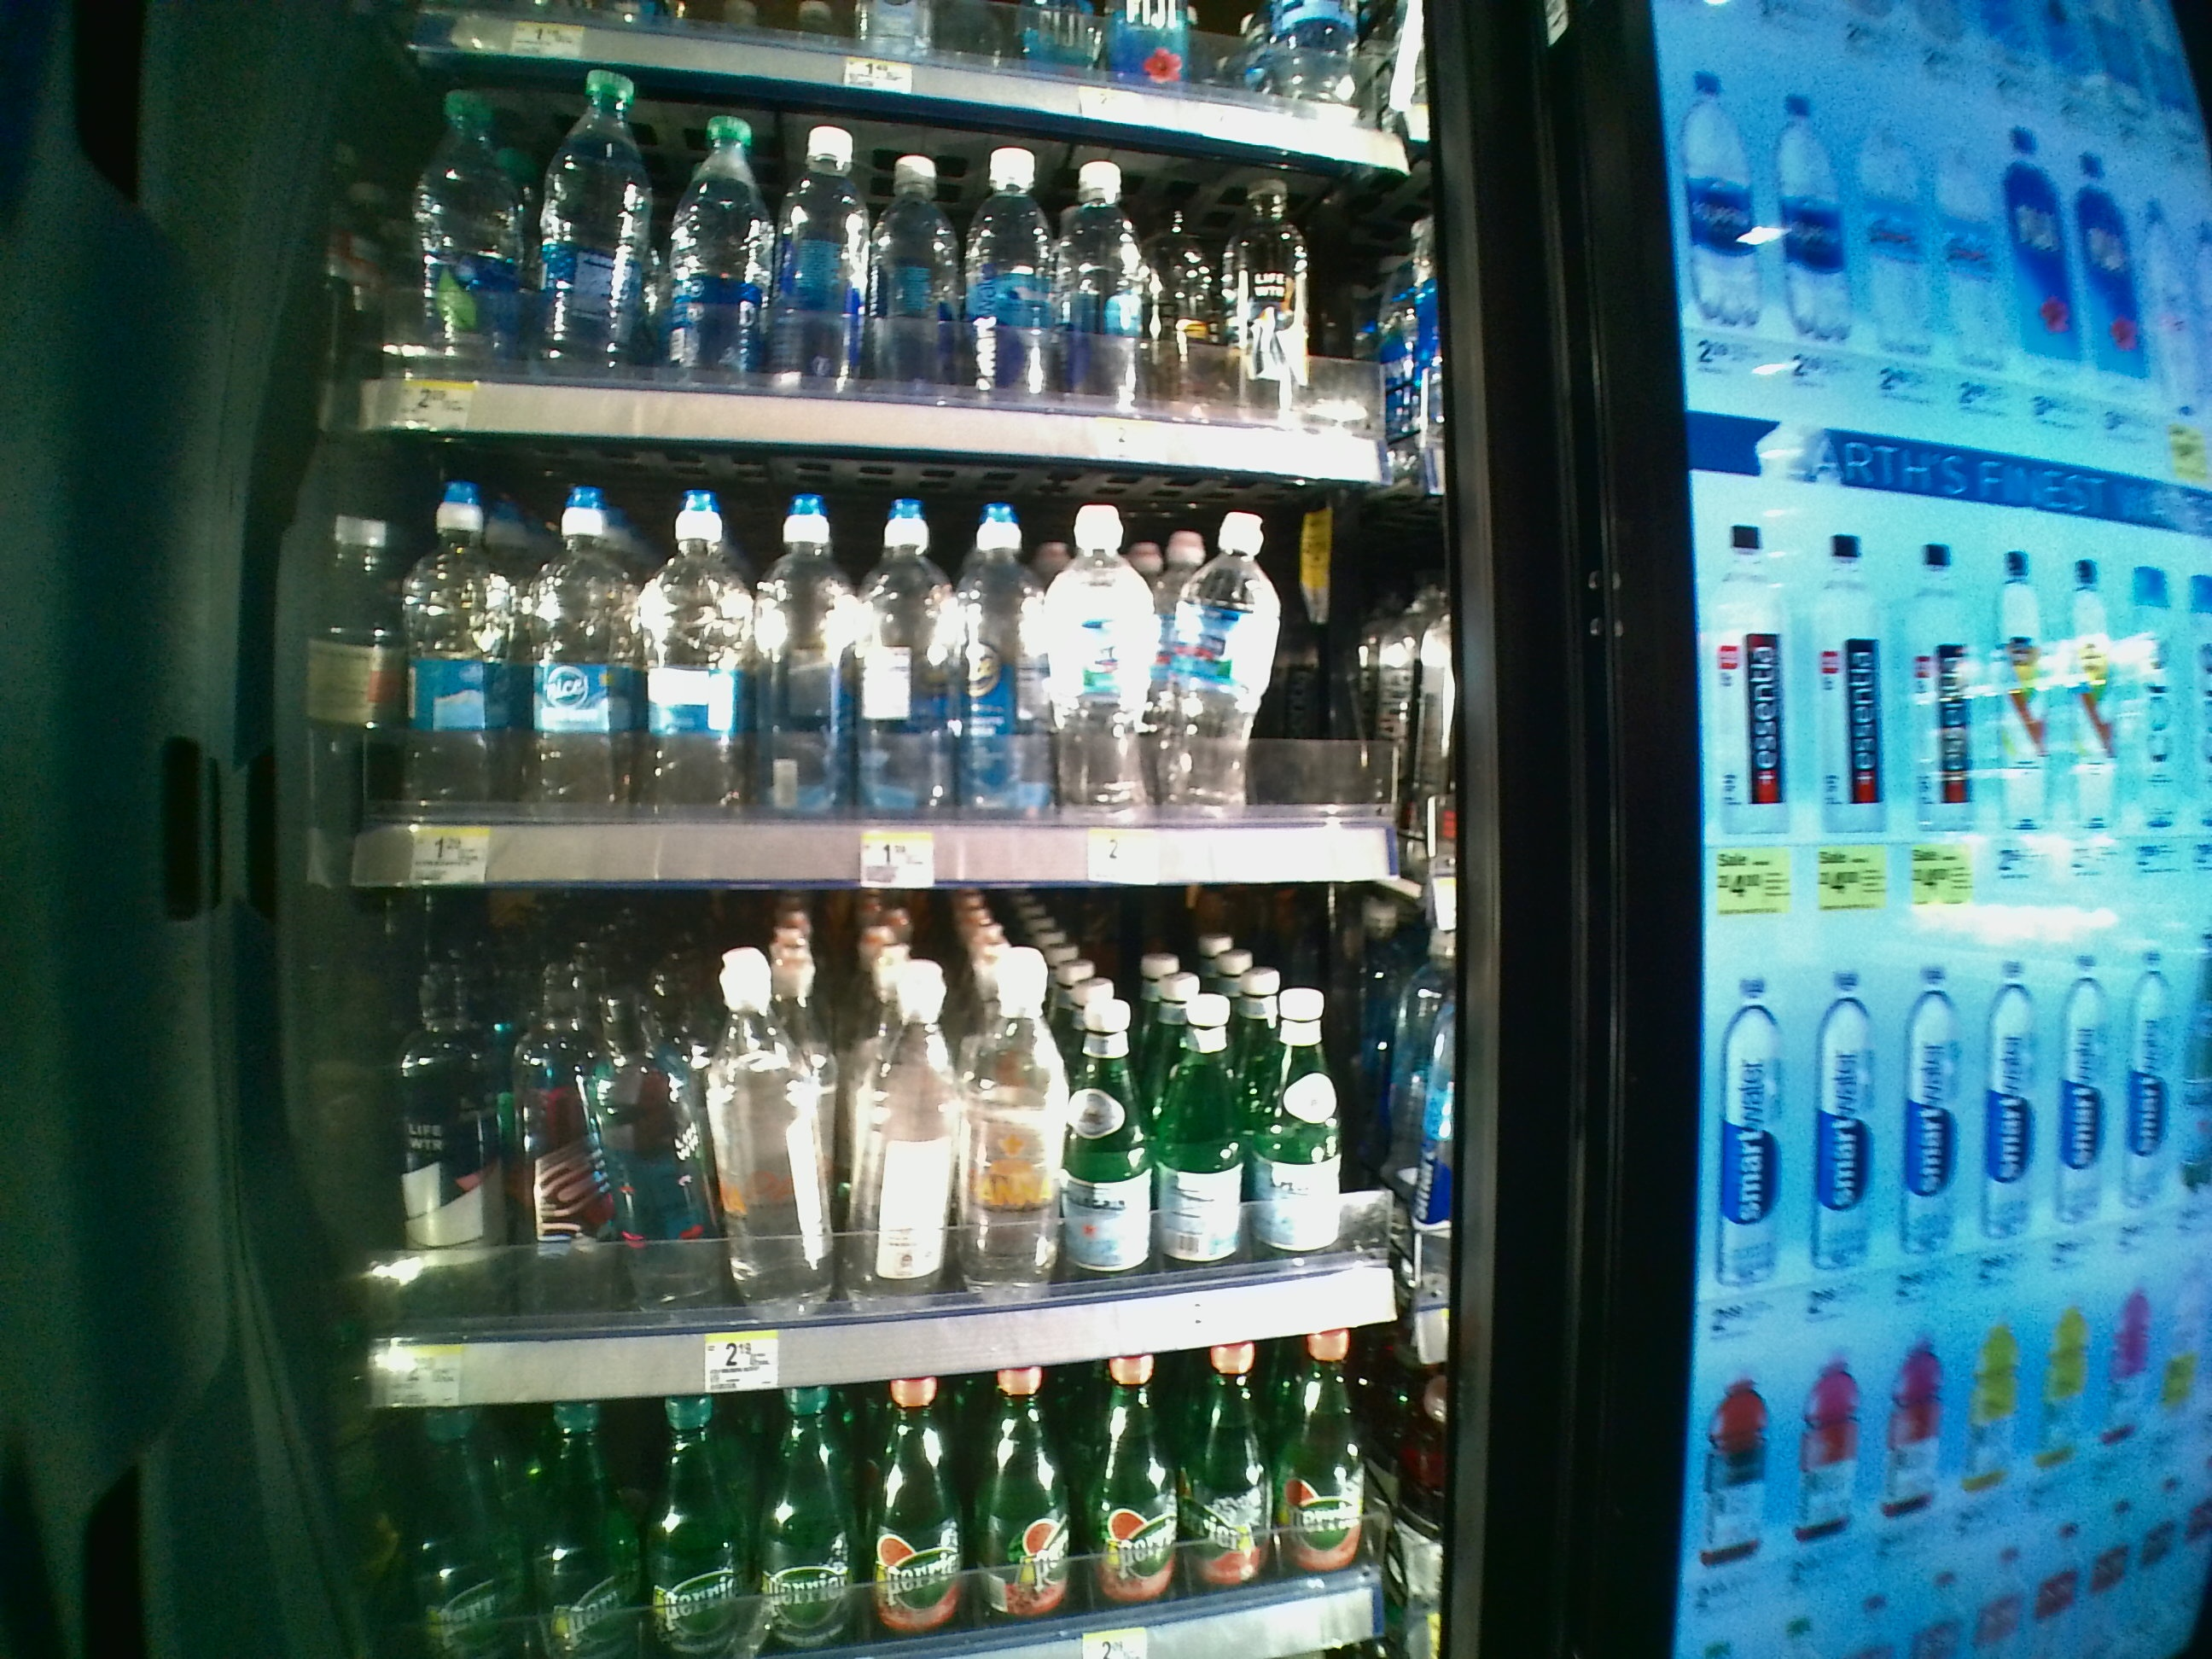Shelf: (326, 882, 1451, 1401), (329, 437, 1444, 884)
